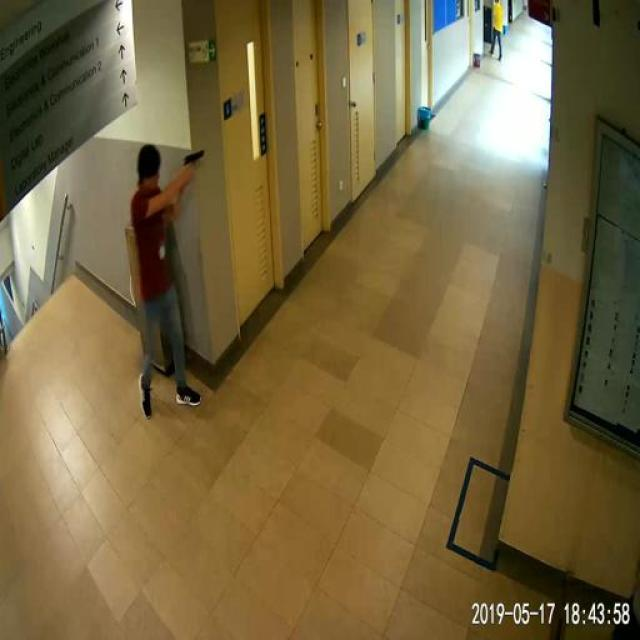Gun: (176, 141, 233, 194)
